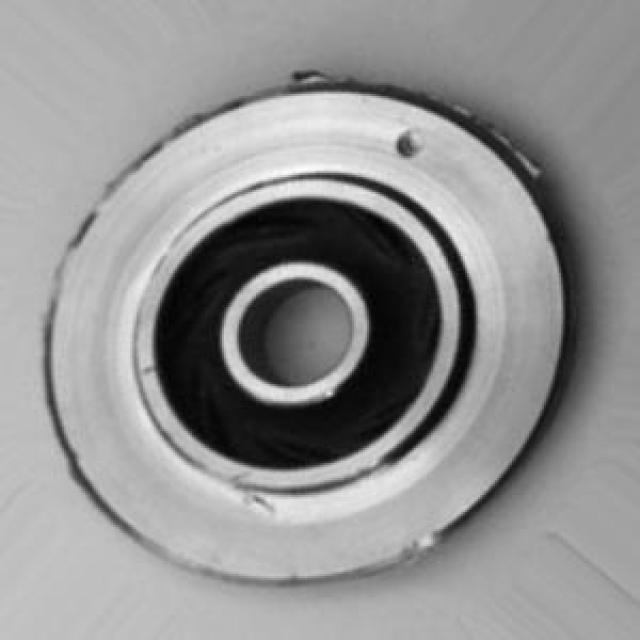Defect: (492, 112, 548, 185), (393, 124, 432, 168)
